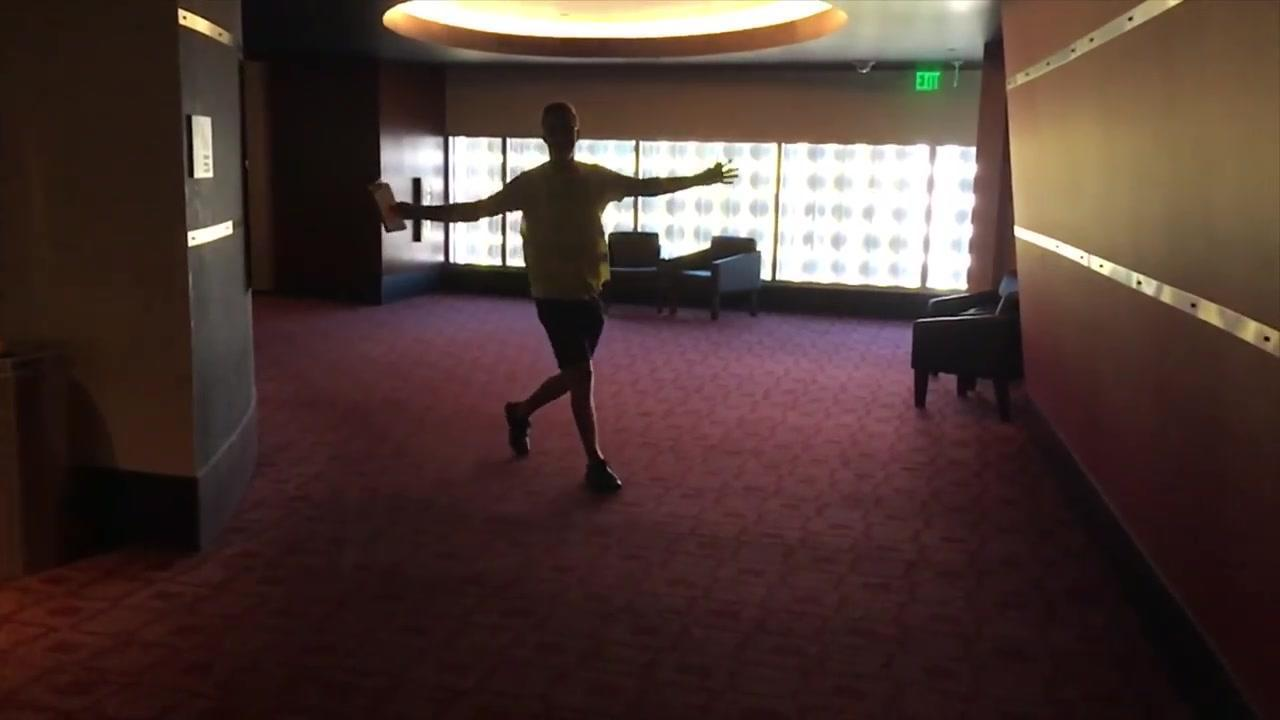vest: (517, 164, 624, 301)
